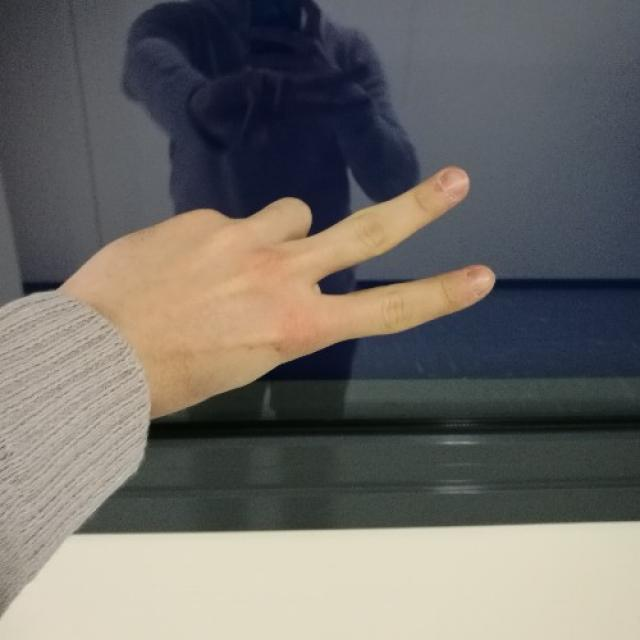scissors: (106, 165, 497, 359)
